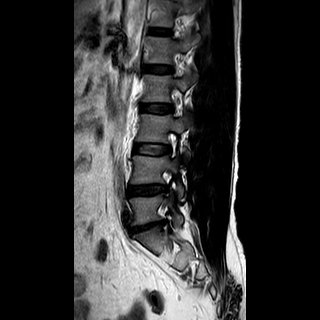LFS0: (163, 83, 186, 123), (158, 126, 183, 161), (164, 47, 188, 82)
